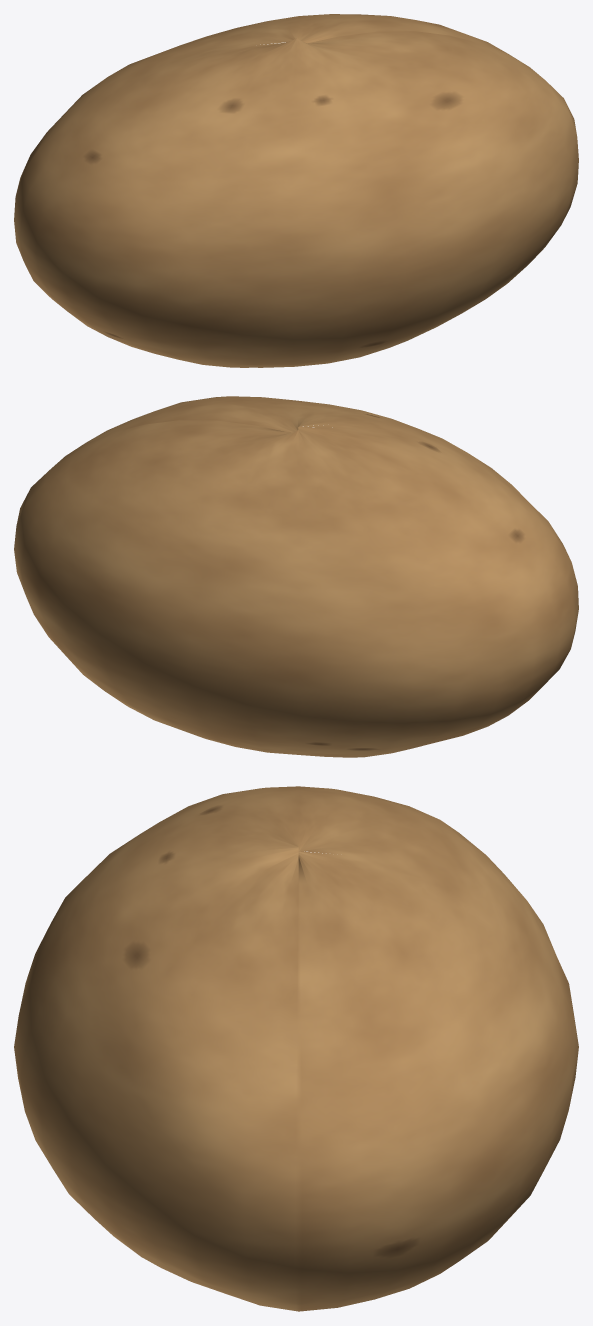
The picture shows the model from 3 angles, top to bottom: view 1: azimuth 30°, elevation 25°; view 2: azimuth 150°, elevation 25°; view 3: azimuth 270°, elevation 25°; orthographic projection. The views are drawn at different scales.
Visible parts, largest first — view 1: Potato; view 2: Potato; view 3: Potato.
Boxes of the visible parts, x1,y1,x2,y2 form: Potato: (14,14,578,367); Potato: (14,396,578,757); Potato: (14,786,578,1311).
Size of the model in its own units: 0.0895 by 0.0493 by 0.0633.
1 material, 1 textured.
